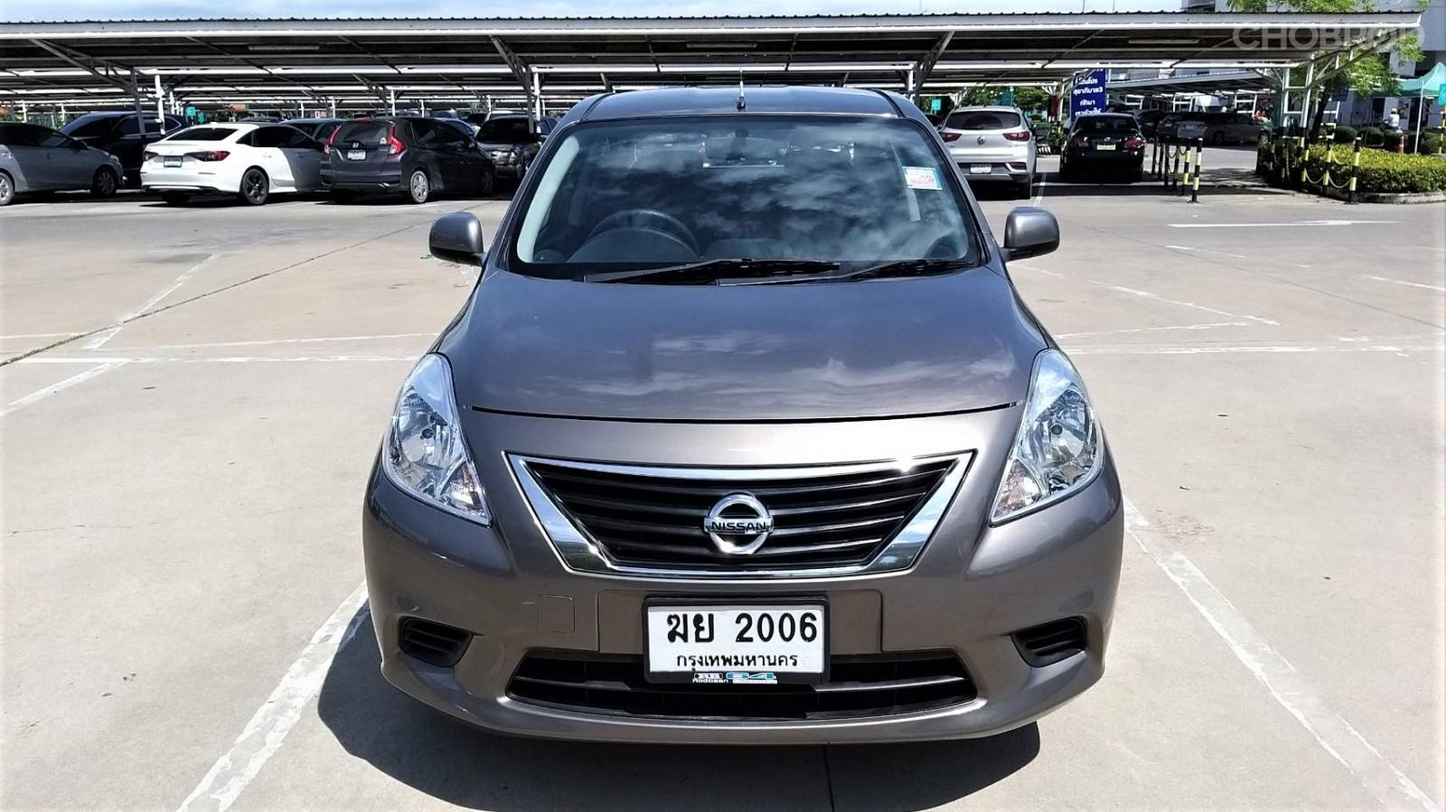license-plate: (635, 592, 834, 707)
